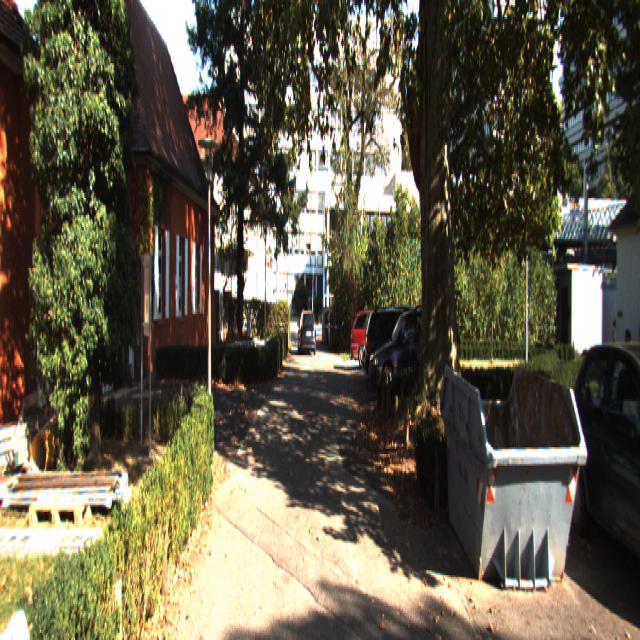Car: (561, 333, 640, 602), (367, 303, 453, 402), (363, 305, 438, 390), (351, 306, 407, 372), (299, 309, 317, 357)
